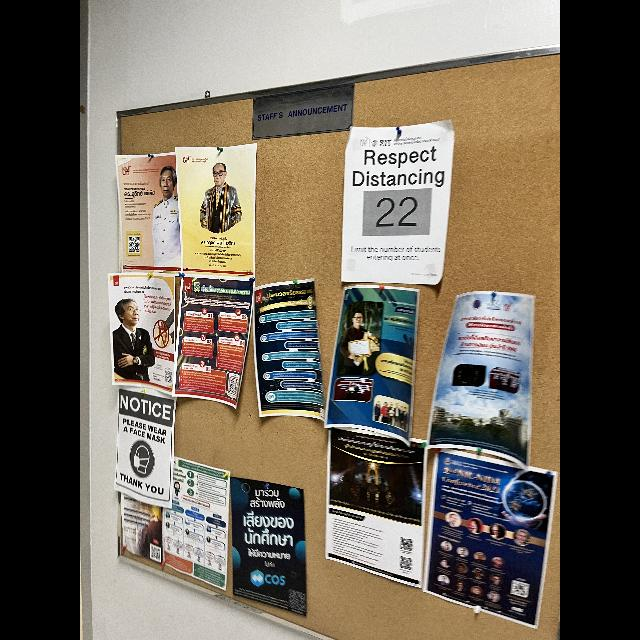reuseable_paper: (324, 427, 548, 627), (102, 144, 274, 278), (119, 407, 234, 597), (336, 103, 444, 293), (110, 278, 258, 416), (434, 275, 542, 457), (220, 468, 326, 614), (331, 283, 421, 443), (246, 282, 340, 431)
